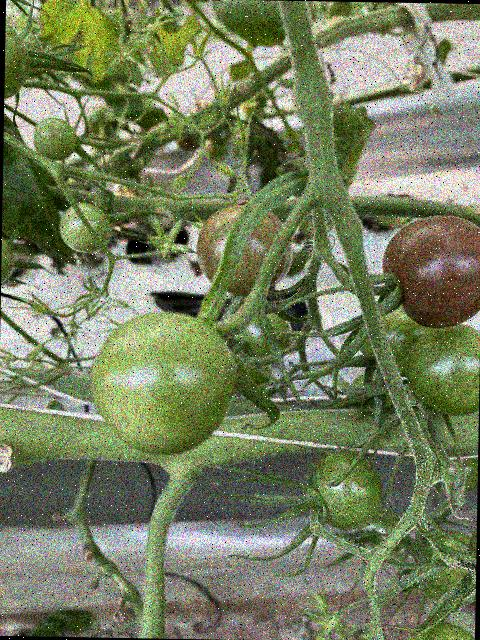l_fully_ripened: (380, 214, 480, 328)
l_green: (89, 310, 236, 458), (402, 323, 480, 418), (307, 449, 383, 531), (357, 302, 432, 373), (421, 530, 476, 600), (60, 203, 113, 255), (243, 310, 293, 363), (4, 16, 30, 101), (33, 118, 78, 162), (402, 620, 475, 640), (1, 230, 14, 289)
l_half_ripened: (195, 204, 293, 296)
